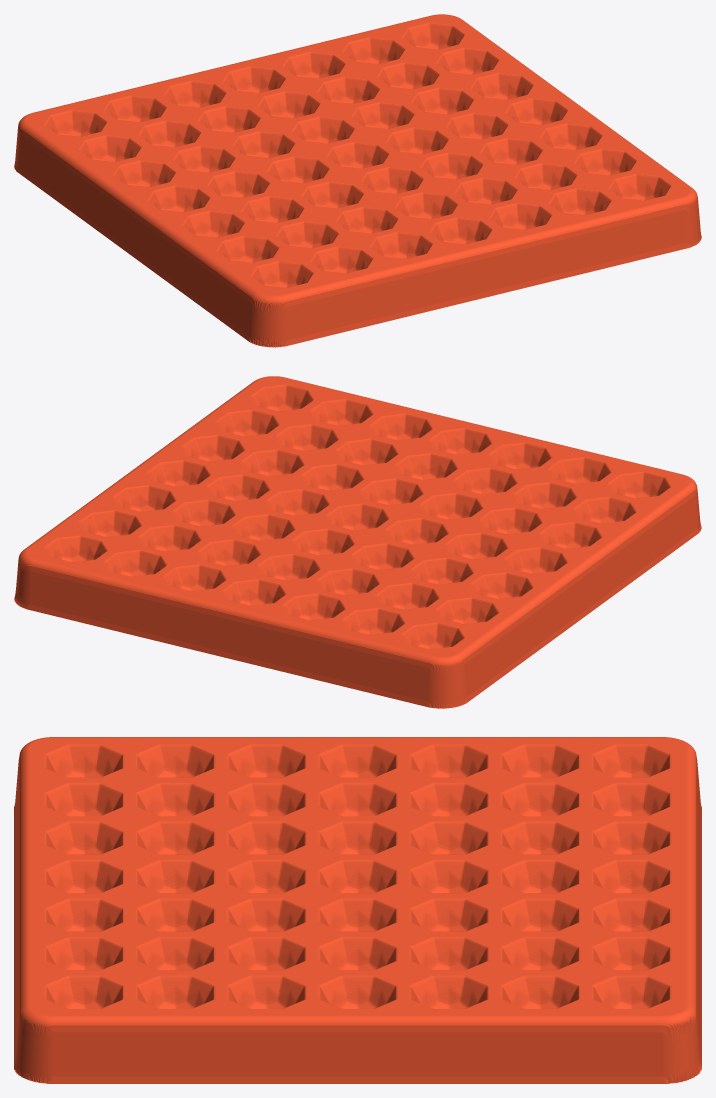
The model's file is mold.glb.
3 views of the same model, one above another, from view 1: azimuth 30°, elevation 25°; view 2: azimuth 150°, elevation 25°; view 3: azimuth 270°, elevation 25° (orthographic). The views are drawn at different scales.
Visible parts, largest first — view 1: geometry_0; view 2: geometry_0; view 3: geometry_0.
Part boxes in pixels (<box>): geometry_0: <box>14,14,701,347</box>; geometry_0: <box>14,376,701,708</box>; geometry_0: <box>14,737,701,1083</box>.
Size of the model in its own units: 0.1581 by 0.0157 by 0.1581.
